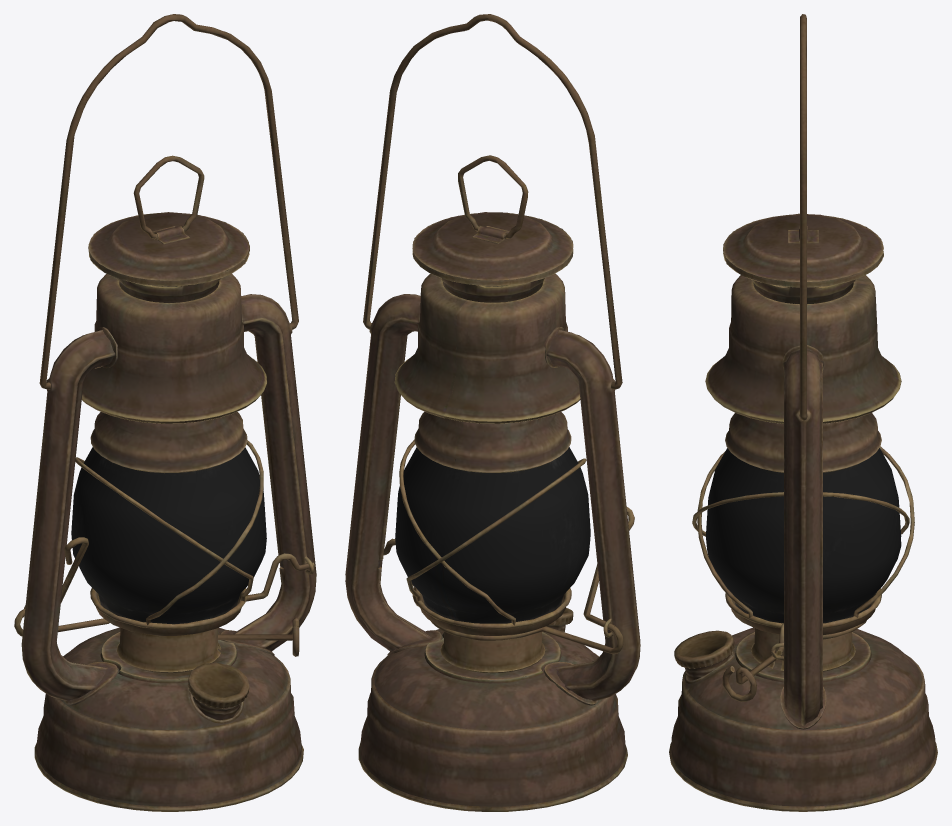
File: lantern.glb
3 renders of one model, left to right at view 1: azimuth 30°, elevation 25°; view 2: azimuth 150°, elevation 25°; view 3: azimuth 270°, elevation 25°, orthographic.
Visible parts, largest first — view 1: Lantern_01, Lantern_01_glass; view 2: Lantern_01, Lantern_01_glass; view 3: Lantern_01, Lantern_01_glass.
Boxes of the visible parts, x1,y1,x2,y2 form: Lantern_01: (14, 14, 316, 811); Lantern_01_glass: (71, 447, 266, 624); Lantern_01: (345, 14, 640, 811); Lantern_01_glass: (395, 447, 590, 623); Lantern_01: (669, 14, 937, 811); Lantern_01_glass: (705, 448, 901, 623).
Bounding box in the file's own units: 0.1221 × 0.2942 × 0.0971.
2 materials, 2 textured.
